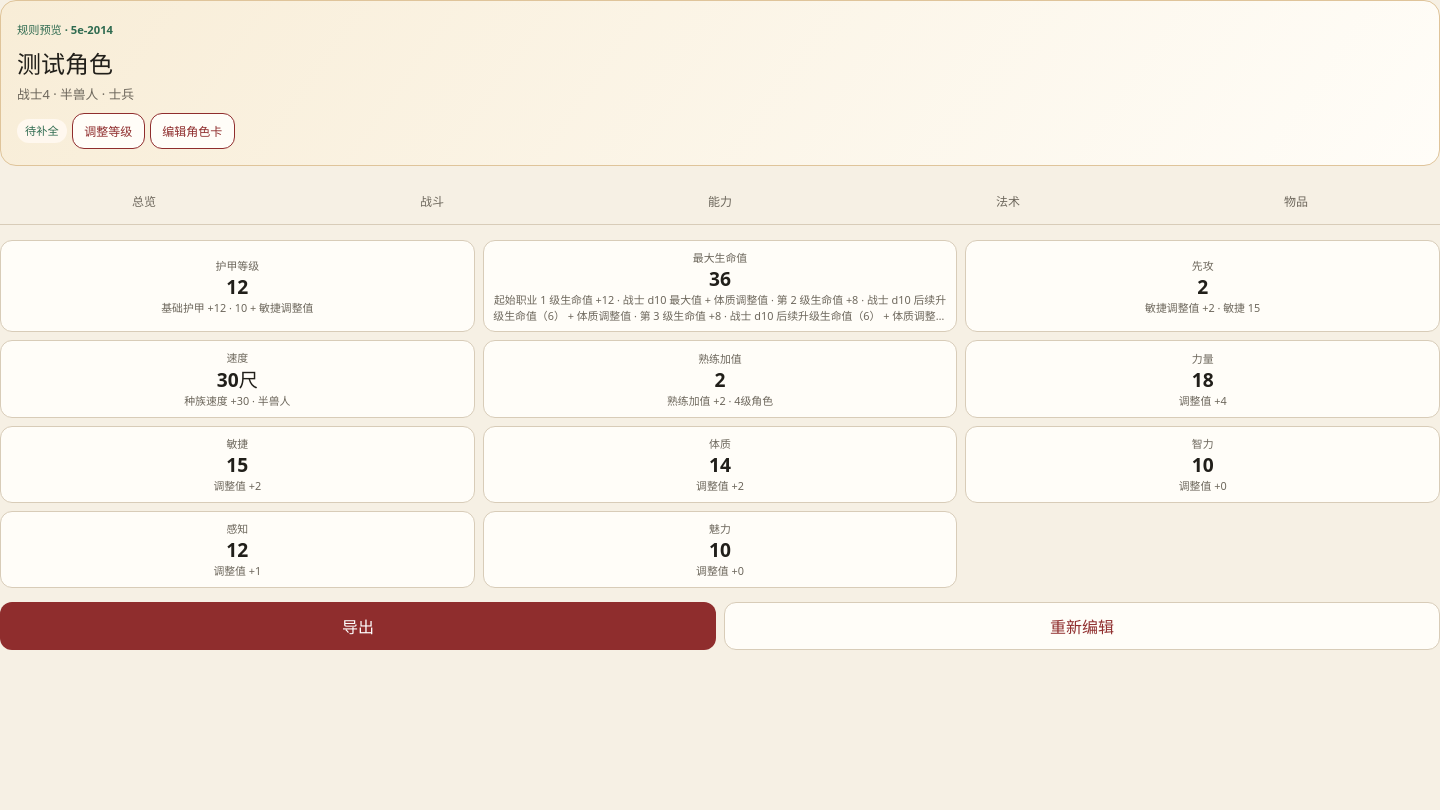
Test: CharacterSheetStep › shows feats and ability improvements in the features tab
Click the tab "能力": (720, 202) [576, 180, 864, 224]
(page scrolled)
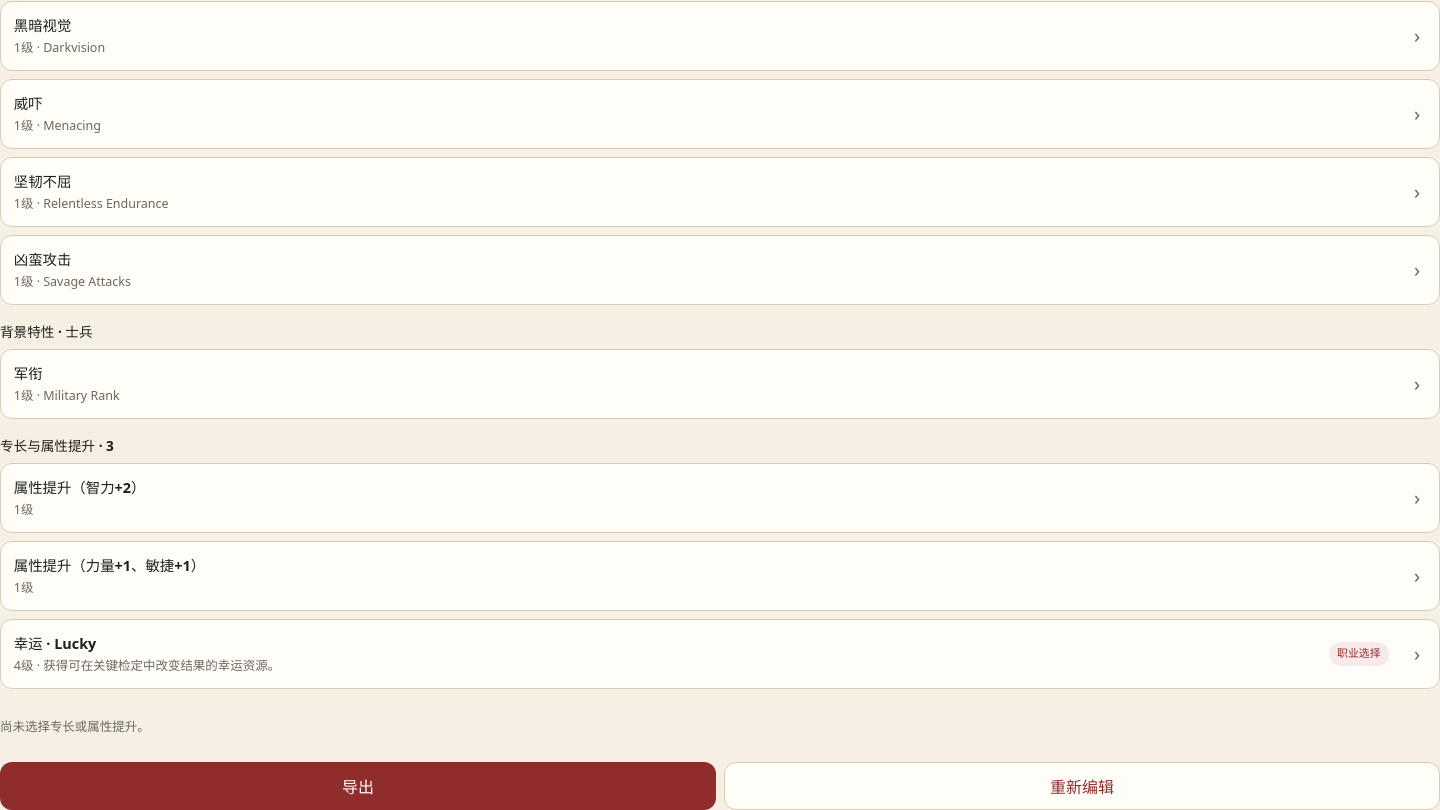
Expected: the text "专长与属性提升" is shown, [0, 436, 114, 455]
Expected: the text "幸运 · Lucky" is shown, [14, 632, 96, 654]
Expected: the text "属性提升（智力+2）" is shown, [14, 476, 145, 498]
Click the button with class "expandable-option-card__arrow" next to "职业选择": (1417, 654) [1395, 620, 1439, 688]
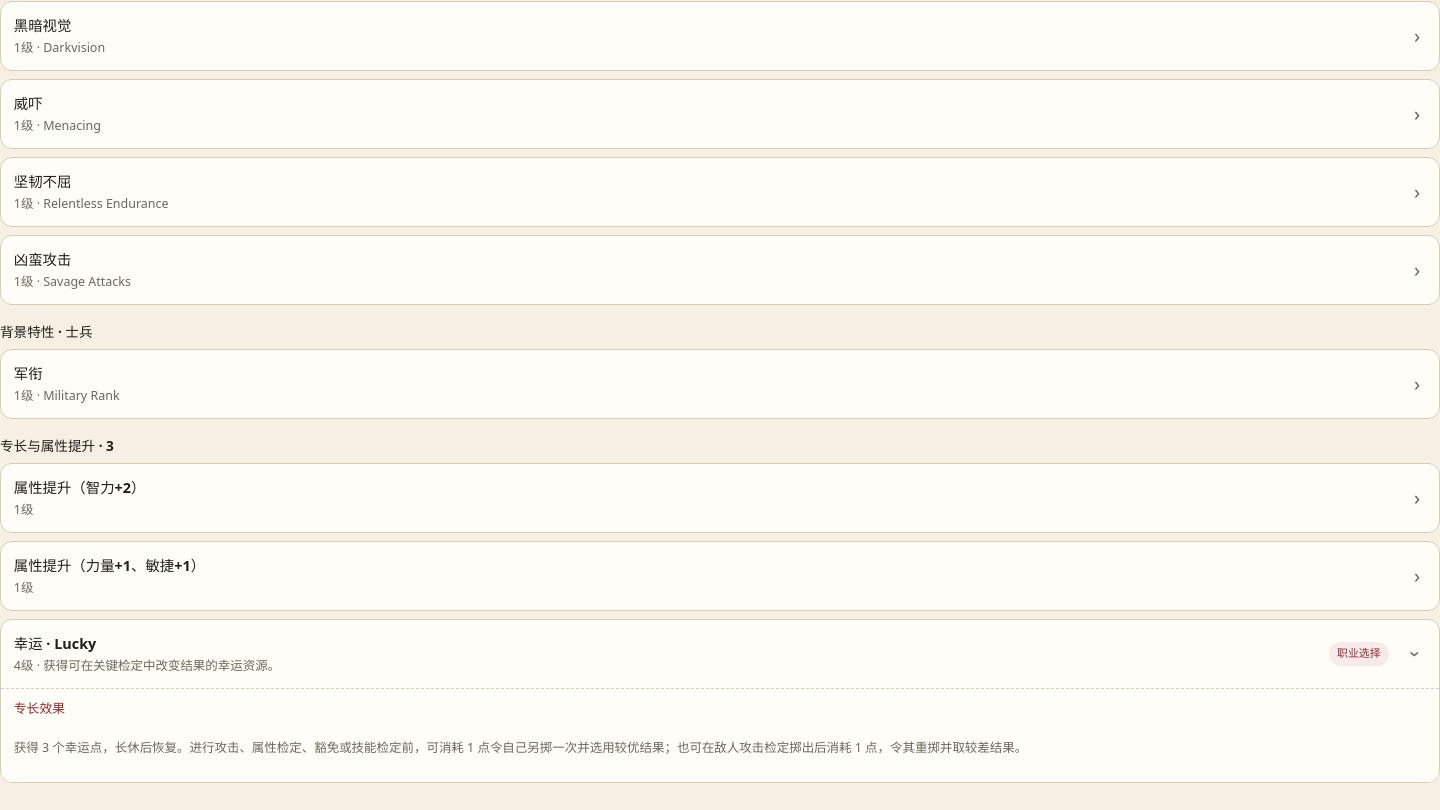
Expected: the element with class "expandable-option-card" shows "幸运点", [0, 619, 1439, 783]
